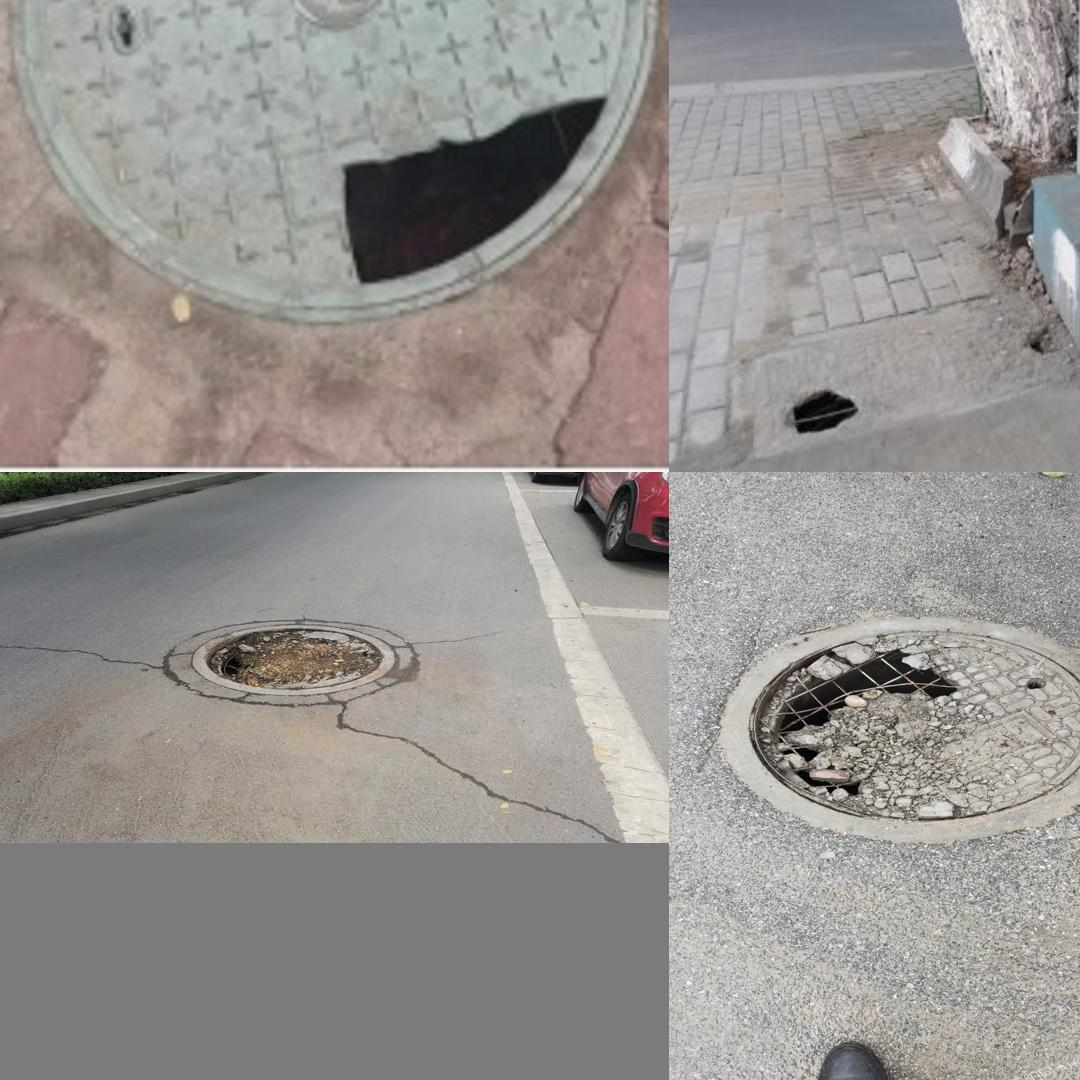broke: (20, 0, 621, 298), (719, 618, 1080, 845), (738, 280, 1064, 459), (148, 606, 424, 712)
